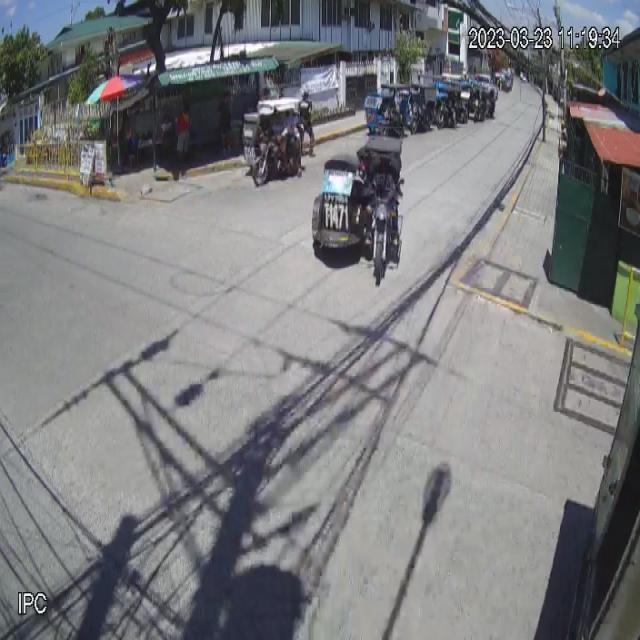Tricycle: (311, 136, 404, 280)
